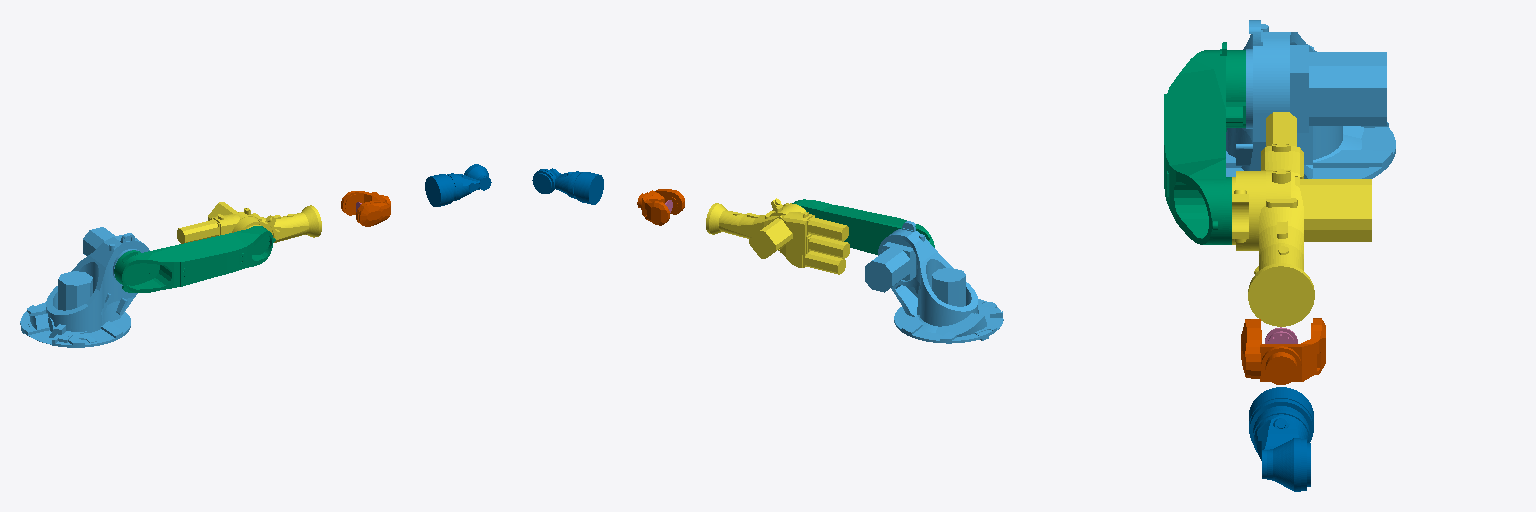
The robot description file, URDF, robot "kuka_kr16":
<?xml version="1.0" ?>
<!-- =================================================================================== -->
<!-- |    This document was autogenerated by xacro from kr16_2.xacro                   | -->
<!-- |    EDITING THIS FILE BY HAND IS NOT RECOMMENDED                                 | -->
<!-- =================================================================================== -->
<!--Generates a urdf from the macro in kr16_2_macro.xacro -->
<robot name="kuka_kr16" xmlns:xacro="http://wiki.ros.org/xacro">
  <!-- LINKS -->
  <!-- base link -->
  <link name="base_link">
    <inertial>
      <origin rpy="0 0 0" xyz="0 0 0"/>
      <mass value="2"/>
      <inertia ixx="0.01" ixy="0" ixz="0" iyy="0.01" iyz="0" izz="0.01"/>
    </inertial>
    <visual>
      <origin rpy="0 0 0" xyz="0 0 0"/>
      <geometry>
        <mesh filename="package://kuka_kr16_support/meshes/kr16/visual/base_link.stl"/>
      </geometry>
    </visual>
    <collision>
      <origin rpy="0 0 0" xyz="0 0 0"/>
      <geometry>
        <mesh filename="package://kuka_kr16_support/meshes/kr16/collision/base_link.stl"/>
      </geometry>
    </collision>
  </link>
  <!-- link 1 (A1) -->
  <link name="link_1">
    <inertial>
      <origin rpy="0 0 0" xyz="0 0 0"/>
      <mass value="2"/>
      <inertia ixx="0.01" ixy="0" ixz="0" iyy="0.01" iyz="0" izz="0.01"/>
    </inertial>
    <visual>
      <origin rpy="0 0 0" xyz="0 0 0"/>
      <geometry>
        <mesh filename="package://kuka_kr16_support/meshes/kr16/visual/link_1.stl"/>
      </geometry>
    </visual>
    <collision>
      <origin rpy="0 0 0" xyz="0 0 0"/>
      <geometry>
        <mesh filename="package://kuka_kr16_support/meshes/kr16/collision/link_1.stl"/>
      </geometry>
    </collision>
  </link>
  <!-- link 2 -->
  <link name="link_2">
    <inertial>
      <origin rpy="0 0 0" xyz="0 0 0"/>
      <mass value="2"/>
      <inertia ixx="0.01" ixy="0" ixz="0" iyy="0.01" iyz="0" izz="0.01"/>
    </inertial>
    <visual>
      <origin rpy="0 0 0" xyz="0 0 0"/>
      <geometry>
        <mesh filename="package://kuka_kr16_support/meshes/kr16/visual/link_2.stl"/>
      </geometry>
    </visual>
    <collision>
      <origin rpy="0 0 0" xyz="0 0 0"/>
      <geometry>
        <mesh filename="package://kuka_kr16_support/meshes/kr16_2/collision/link_2.stl"/>
      </geometry>
    </collision>
  </link>
  <!-- link 3 -->
  <link name="link_3">
    <inertial>
      <origin rpy="0 0 0" xyz="0 0 0"/>
      <mass value="2"/>
      <inertia ixx="0.01" ixy="0" ixz="0" iyy="0.01" iyz="0" izz="0.01"/>
    </inertial>
    <visual>
      <origin rpy="0 0 0" xyz="0 0 0"/>
      <geometry>
        <mesh filename="package://kuka_kr16_support/meshes/kr16/visual/link_3.stl"/>
      </geometry>
    </visual>
    <collision>
      <origin rpy="0 0 0" xyz="0 0 0"/>
      <geometry>
        <mesh filename="package://kuka_kr16_support/meshes/kr16/collision/link_3.stl"/>
      </geometry>
    </collision>
  </link>
  <!-- link 4 -->
  <link name="link_4">
    <inertial>
      <origin rpy="0 0 0" xyz="0 0 0"/>
      <mass value="2"/>
      <inertia ixx="0.01" ixy="0" ixz="0" iyy="0.01" iyz="0" izz="0.01"/>
    </inertial>
    <visual>
      <origin rpy="0 0 0" xyz="0 0 0"/>
      <geometry>
        <mesh filename="package://kuka_kr16_support/meshes/kr16/visual/link_4.stl"/>
      </geometry>
    </visual>
    <collision>
      <origin rpy="0 0 0" xyz="0 0 0"/>
      <geometry>
        <mesh filename="package://kuka_kr16_support/meshes/kr16_2/collision/link_4.stl"/>
      </geometry>
    </collision>
  </link>
  <!-- link 5 -->
  <link name="link_5">
    <inertial>
      <origin rpy="0 0 0" xyz="0 0 0"/>
      <mass value="2"/>
      <inertia ixx="0.01" ixy="0" ixz="0" iyy="0.01" iyz="0" izz="0.01"/>
    </inertial>
    <visual>
      <origin rpy="0 0 0" xyz="0 0 0"/>
      <geometry>
        <mesh filename="package://kuka_kr16_support/meshes/kr16/visual/link_5.stl"/>
      </geometry>
    </visual>
    <collision>
      <origin rpy="0 0 0" xyz="0 0 0"/>
      <geometry>
        <mesh filename="package://kuka_kr16_support/meshes/kr16/collision/link_5.stl"/>
      </geometry>
    </collision>
  </link>
  <!-- link 6 -->
  <link name="link_6">
    <inertial>
      <origin rpy="0 0 0" xyz="0 0 0"/>
      <mass value="2"/>
      <inertia ixx="0.01" ixy="0" ixz="0" iyy="0.01" iyz="0" izz="0.01"/>
    </inertial>
    <visual>
      <origin rpy="0 0 0" xyz="0 0 0"/>
      <geometry>
        <mesh filename="package://kuka_kr16_support/meshes/kr16/visual/link_6.stl"/>
      </geometry>
    </visual>
    <collision>
      <origin rpy="0 0 0" xyz="0 0 0"/>
      <geometry>
        <mesh filename="package://kuka_kr16_support/meshes/kr16/collision/link_6.stl"/>
      </geometry>
    </collision>
  </link>
  <!-- tool 0 -->
  <!-- This frame corresponds to the $FLANGE coordinate system in KUKA KRC controllers. -->
  <link name="tool0"/>
  <!-- END LINKS -->
  <!-- JOINTS -->
  <!-- joint 1 (A1) -->
  <joint name="joint_a1" type="revolute">
    <origin rpy="0 0 0" xyz="0 0 0.675"/>
    <parent link="base_link"/>
    <child link="link_1"/>
    <axis xyz="0 0 -1"/>
    <limit effort="0" lower="-3.22885911619" upper="3.22885911619" velocity="2.72271363311"/>
  </joint>
  <!-- joint 2 (A2) -->
  <joint name="joint_a2" type="revolute">
    <origin rpy="0 0 0" xyz="0.26 0 0"/>
    <parent link="link_1"/>
    <child link="link_2"/>
    <axis xyz="0 1 0"/>
    <limit effort="0" lower="-2.70526034059" upper="0.610865238198" velocity="2.72271363311"/>
  </joint>
  <!-- joint 3 (A3) -->
  <joint name="joint_a3" type="revolute">
    <origin rpy="0 0 0" xyz="0.68 0 0"/>
    <parent link="link_2"/>
    <child link="link_3"/>
    <axis xyz="0 1 0"/>
    <limit effort="0" lower="-2.26892802759" upper="2.68780704807" velocity="2.72271363311"/>
  </joint>
  <!-- joint 4 (A4) -->
  <joint name="joint_a4" type="revolute">
    <origin rpy="0 0 0" xyz="0.67 0 -0.035"/>
    <parent link="link_3"/>
    <child link="link_4"/>
    <axis xyz="-1 0 0"/>
    <limit effort="0" lower="-6.10865238198" upper="6.10865238198" velocity="5.75958653158"/>
  </joint>
  <!-- joint 5 (A5) -->
  <joint name="joint_a5" type="revolute">
    <origin rpy="0 0 0" xyz="0 0 0"/>
    <parent link="link_4"/>
    <child link="link_5"/>
    <axis xyz="0 1 0"/>
    <limit effort="0" lower="-2.26892802759" upper="2.26892802759" velocity="5.75958653158"/>
  </joint>
  <!-- joint 6 (A6) -->
  <joint name="joint_a6" type="revolute">
    <origin rpy="0 0 0" xyz="0 0 0"/>
    <parent link="link_5"/>
    <child link="link_6"/>
    <axis xyz="-1 0 0"/>
    <limit effort="0" lower="-6.10865238198" upper="6.10865238198" velocity="10.7337748998"/>
  </joint>
  <!-- tool frame - fixed frame -->
  <joint name="joint_a6-tool0" type="fixed">
    <parent link="link_6"/>
    <child link="tool0"/>
    <origin rpy="0 1.57079632679 0" xyz="0.158 0 0"/>
  </joint>
  <!-- END JOINTS -->
  <!-- ROS base_link to KUKA $ROBROOT coordinate system transform -->
  <link name="base"/>
  <joint name="base_link-base" type="fixed">
    <origin rpy="0 0 0" xyz="0 0 0"/>
    <parent link="base_link"/>
    <child link="base"/>
  </joint>
</robot>

--- What the picture shows (computed from the rendered views, not written in the file) ---
The picture shows the robot from 3 angles, left to right: view 1: azimuth 30°, elevation 25°; view 2: azimuth 150°, elevation 25°; view 3: azimuth 270°, elevation 25°; orthographic projection.
Robot: kuka_kr16 — 9 links, 8 joints (6 revolute, 2 fixed); root link base_link; default pose: every joint at zero.
Visible links, largest first — view 1: link_1, link_2, link_3, link_4, link_5; view 2: link_1, link_3, link_2, link_4, link_5; view 3: link_1, link_3, link_2, link_4, link_5.
Link boxes in pixels (<box>): link_1: <box>20,227,149,347</box>; link_2: <box>114,226,275,292</box>; link_3: <box>177,202,321,243</box>; link_4: <box>425,164,491,206</box>; link_5: <box>341,191,390,226</box>; link_1: <box>865,221,1003,343</box>; link_3: <box>706,198,849,274</box>; link_2: <box>792,199,934,254</box>; link_4: <box>532,168,603,204</box>; link_5: <box>637,189,684,225</box>; link_1: <box>1226,20,1395,178</box>; link_3: <box>1232,112,1371,326</box>; link_2: <box>1164,42,1245,244</box>; link_4: <box>1249,387,1313,491</box>; link_5: <box>1241,318,1325,384</box>.
Size in the robot's own frame: 2.61 by 0.5465 by 0.4618 metres.
Meshes: 7 distinct files referenced, 6 mesh visuals loaded (6 binary STL); not drawn: 1 (reference not matched to a file when rendering).
